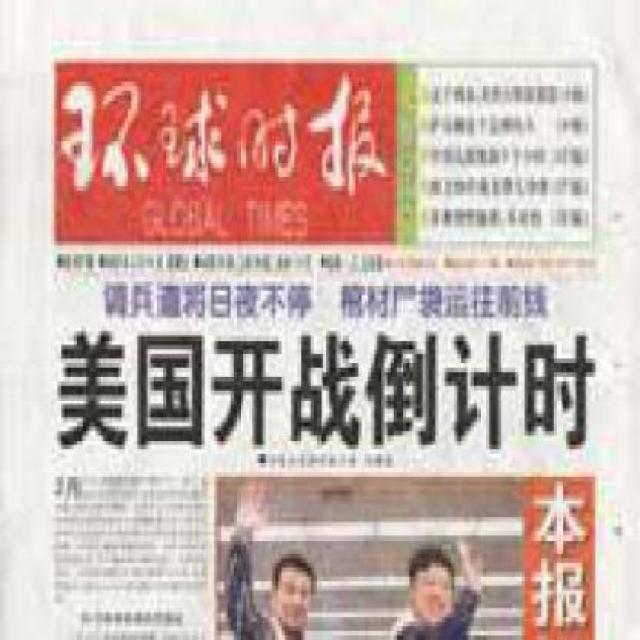PAPER: (0, 0, 637, 635)
